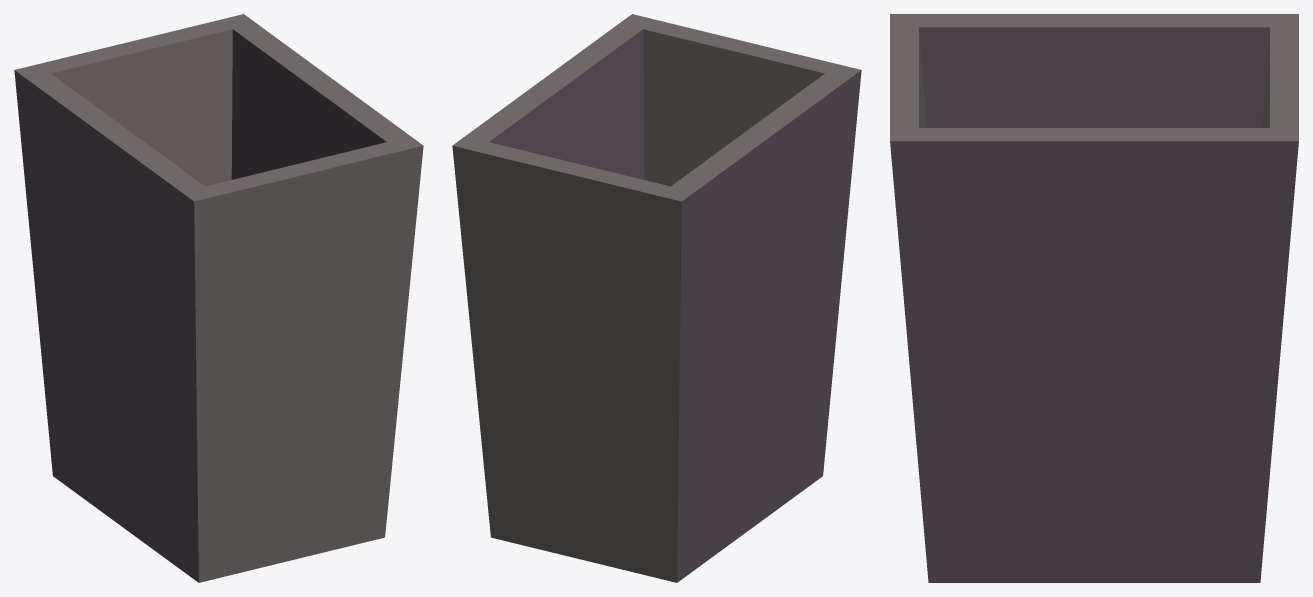
File: Trash Can.fbx
3 views of the same model, side by side, from view 1: azimuth 30°, elevation 25°; view 2: azimuth 150°, elevation 25°; view 3: azimuth 270°, elevation 25° (orthographic). The views are drawn at different scales.
Visible parts, largest first — view 1: Trash Can; view 2: Trash Can; view 3: Trash Can.
Boxes of the visible parts, x1=… form: Trash Can: x1=14, y1=14, x2=423, y2=582; Trash Can: x1=452, y1=14, x2=861, y2=582; Trash Can: x1=890, y1=14, x2=1298, y2=582.
Bounding box in the file's own units: 50.1 × 83.26 × 68.02.
